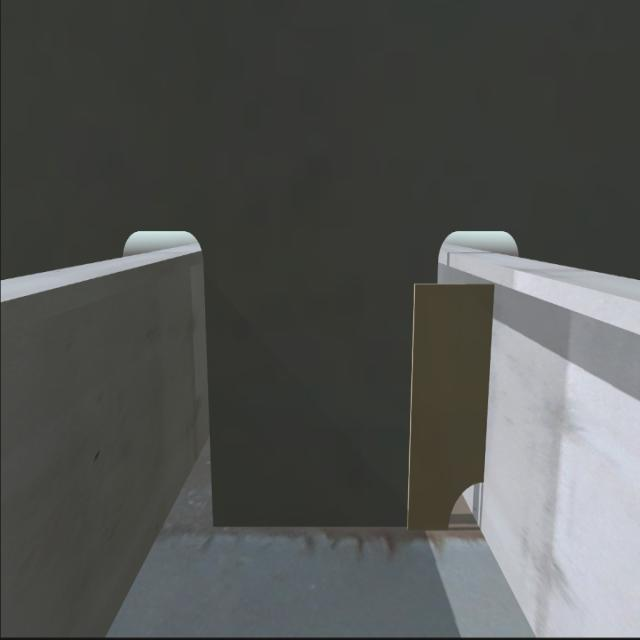fillet_hole: (449, 482, 482, 530)
fillet_yong_jeop_jang: (213, 513, 456, 547)
longi_yong_jeop_jang: (482, 275, 499, 485)
plate_CP01: (411, 280, 491, 534)
